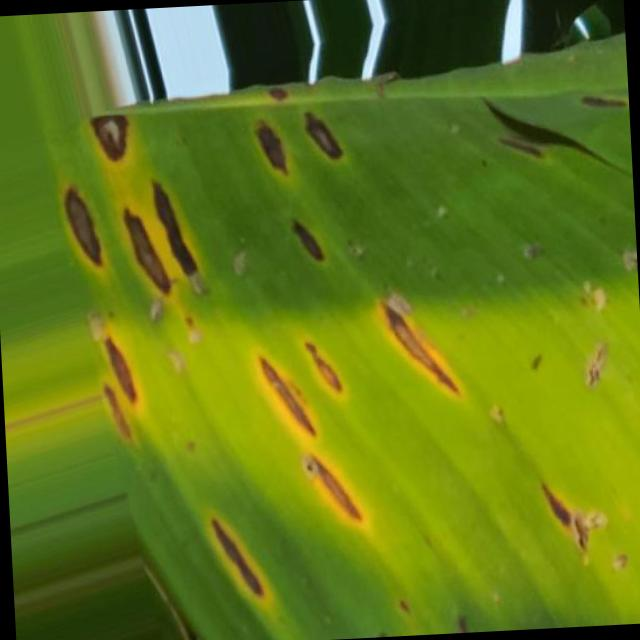Banana_Yellow_Sigatoka: (233, 332, 404, 552), (76, 326, 215, 500), (351, 278, 514, 421), (192, 506, 337, 624), (511, 441, 614, 563), (58, 69, 161, 185), (129, 146, 204, 302), (44, 156, 116, 276), (294, 76, 359, 176), (248, 104, 314, 190)
